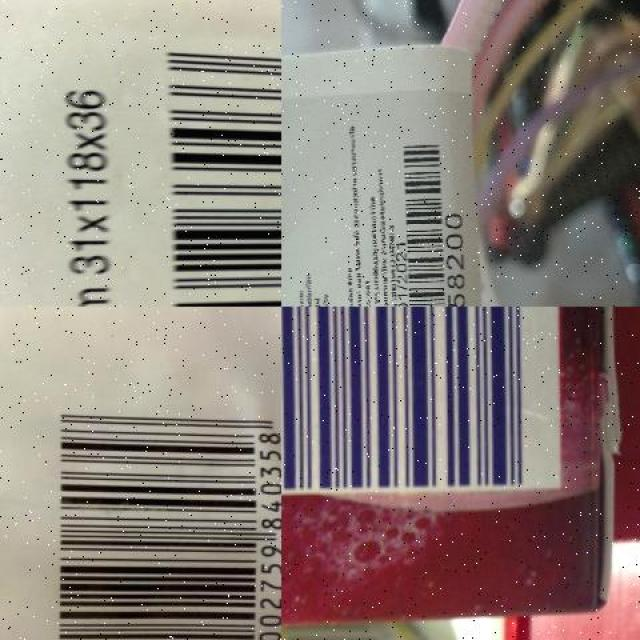Barcode: (30, 390, 281, 640), (282, 306, 562, 498), (139, 35, 281, 306), (396, 118, 465, 306)
